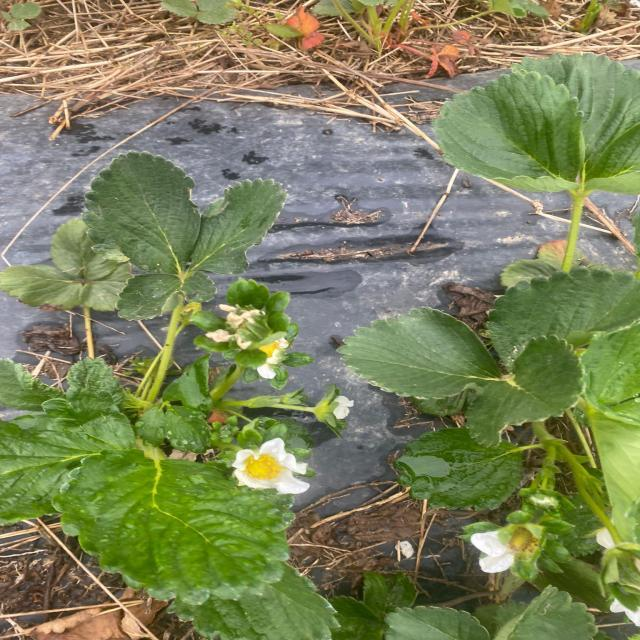flower: (224, 431, 320, 498), (468, 520, 562, 580), (244, 330, 304, 378)
